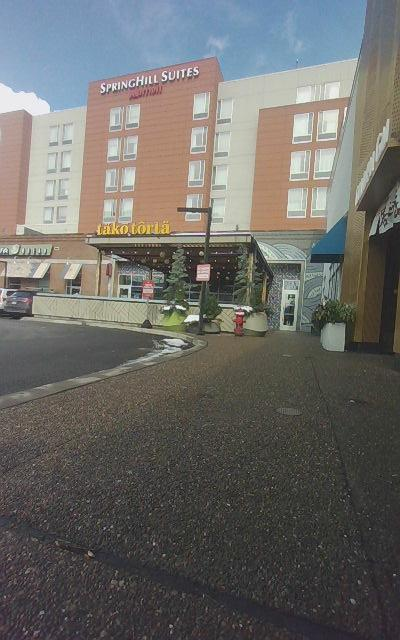curb: (0, 332, 399, 639)
road: (0, 319, 192, 396)
